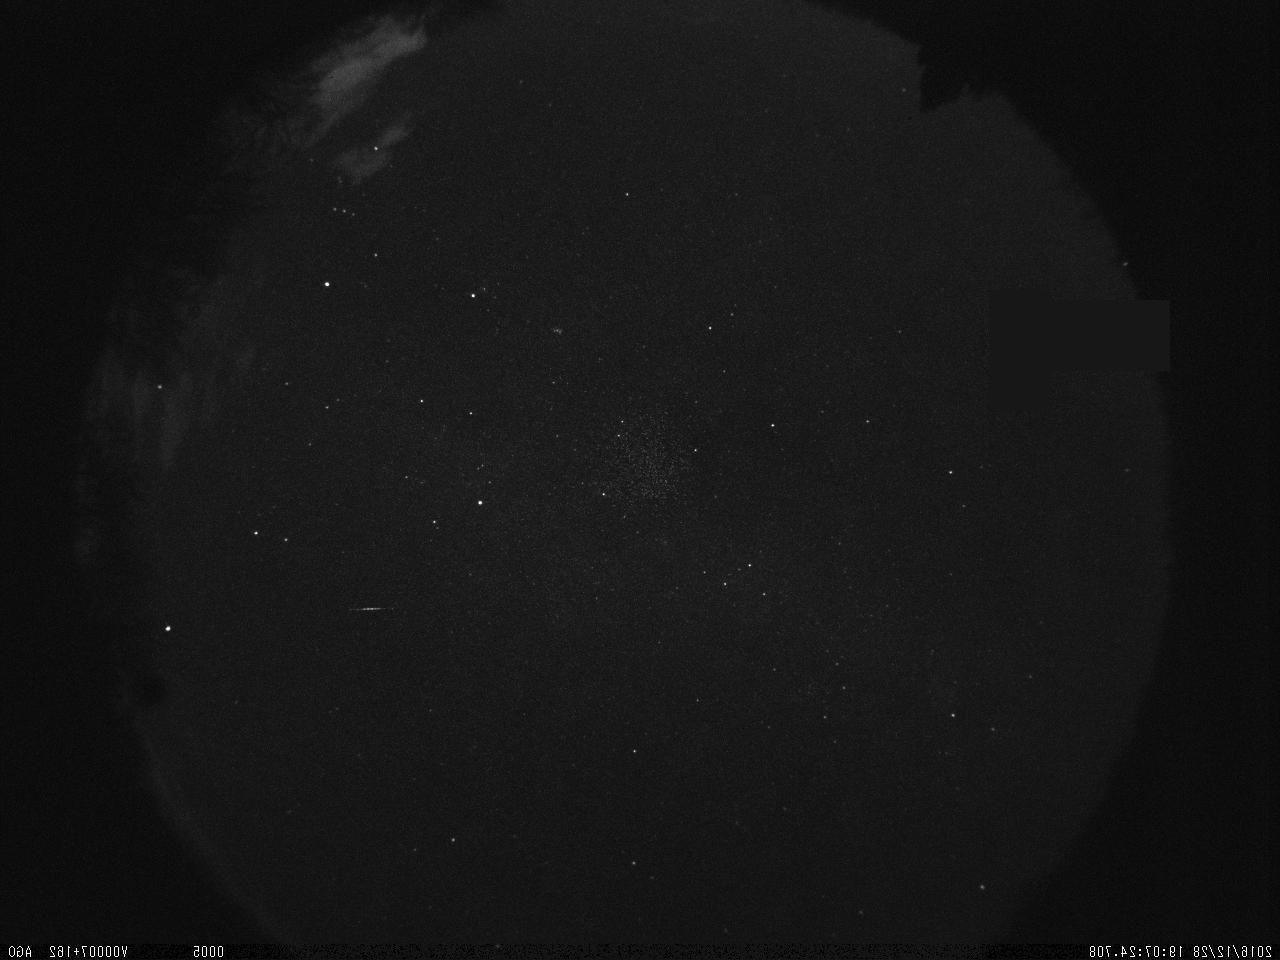meteor: (332, 593, 409, 621)
